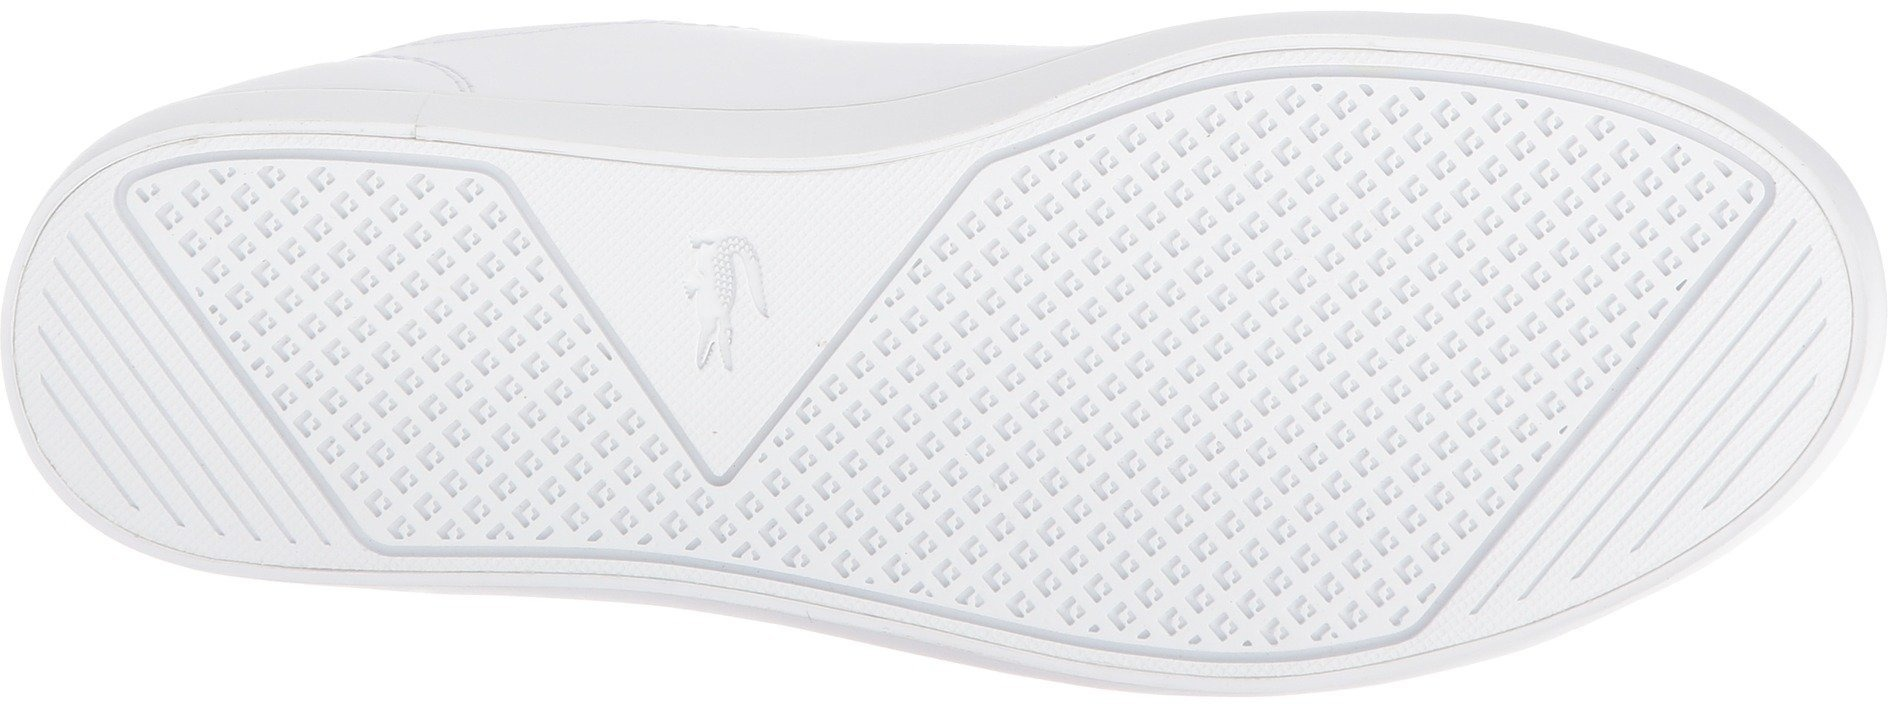chevron: (957, 187, 1383, 608), (1347, 112, 1624, 402), (311, 209, 527, 446), (787, 396, 964, 557)
other: (633, 217, 800, 379), (23, 304, 178, 465), (175, 443, 262, 528)
quad: (957, 187, 1383, 608), (1347, 112, 1624, 402), (311, 209, 527, 446), (787, 396, 964, 557)
